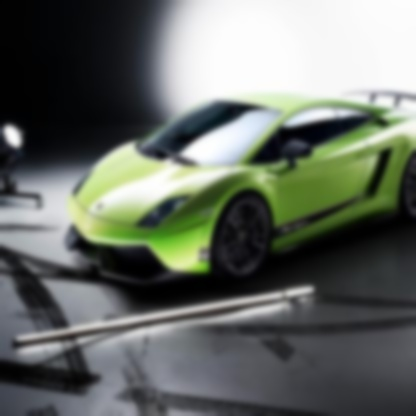Vehicle: (61, 86, 415, 294)
